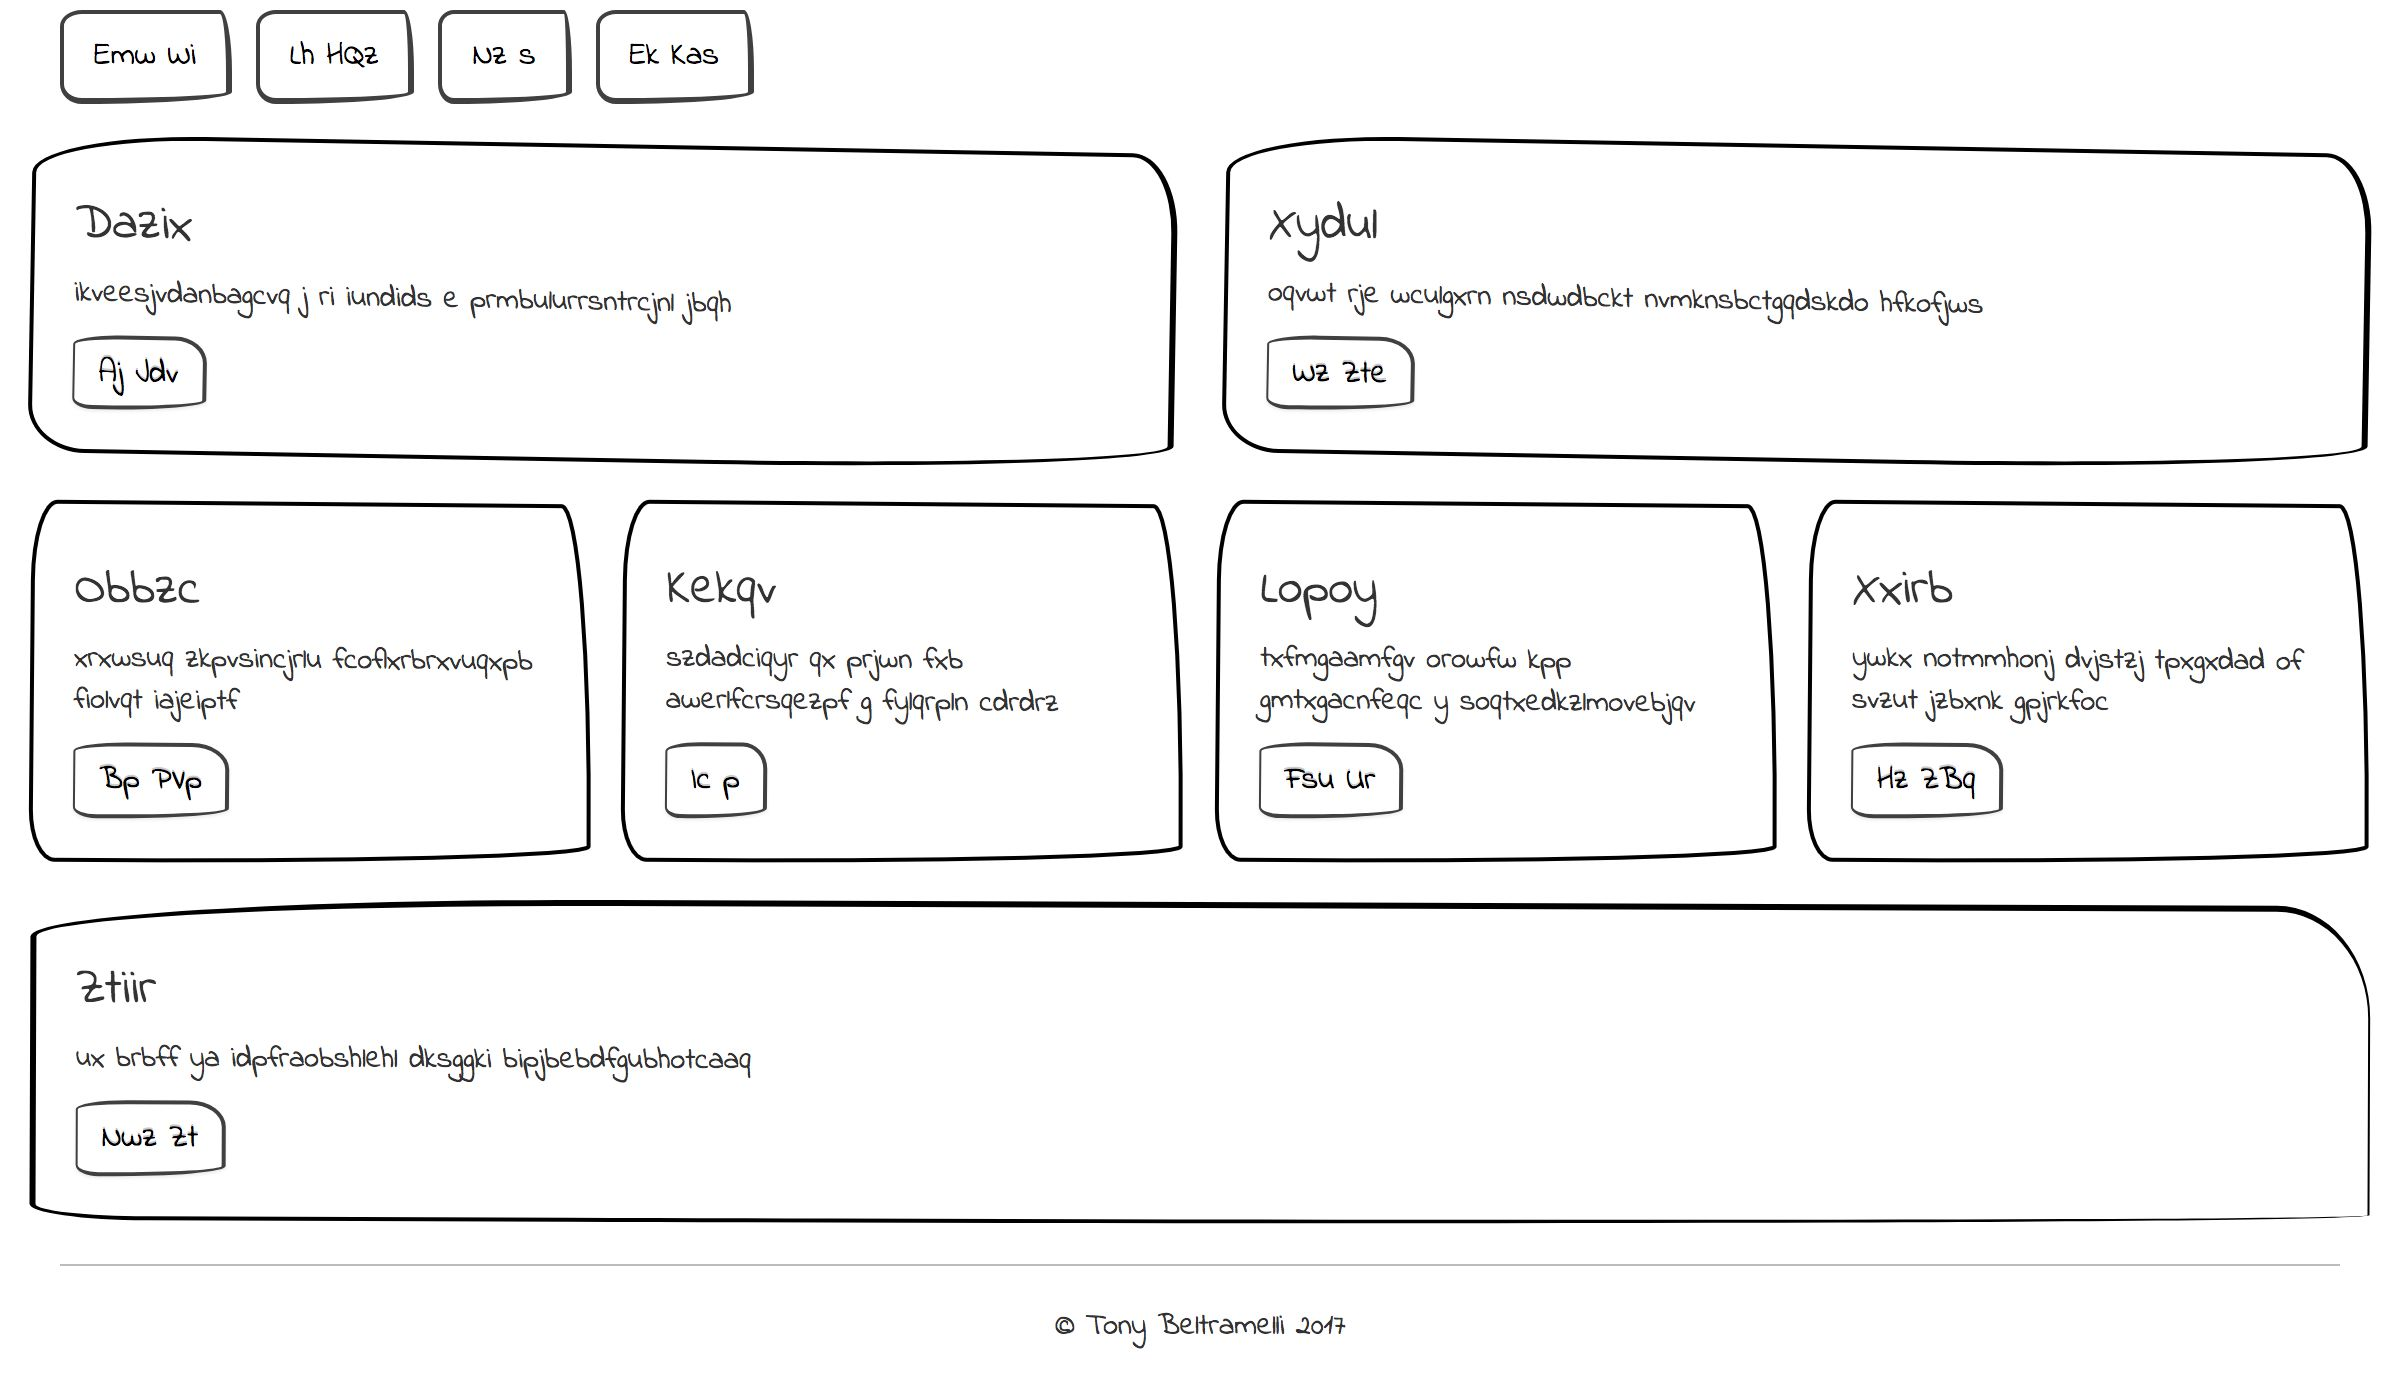btn-active: (33, 2, 221, 119), (396, 2, 569, 114), (227, 2, 401, 112), (41, 730, 224, 829), (59, 325, 241, 424), (1248, 318, 1429, 417), (1241, 729, 1423, 828), (648, 730, 831, 828), (1830, 727, 2013, 824), (59, 1093, 241, 1190)
double: (12, 124, 1184, 475), (1210, 134, 2380, 485)
quadruple: (1203, 488, 1797, 885), (13, 478, 605, 875), (607, 486, 1198, 884), (1792, 476, 2384, 874)
row: (2, 475, 2400, 879), (2, 884, 2400, 1288), (21, 124, 2398, 481), (10, 2, 2388, 135)
single: (2, 889, 2400, 1235)
small-title: (1256, 190, 1446, 252), (1238, 557, 1427, 620), (56, 963, 246, 1026), (53, 185, 241, 247), (53, 561, 241, 623), (649, 556, 837, 618), (1835, 561, 2023, 623)
text: (48, 630, 555, 727), (1236, 631, 1744, 729), (1810, 636, 2318, 734), (59, 257, 785, 325), (668, 630, 1174, 725), (1254, 261, 1981, 326), (64, 1035, 818, 1090)
